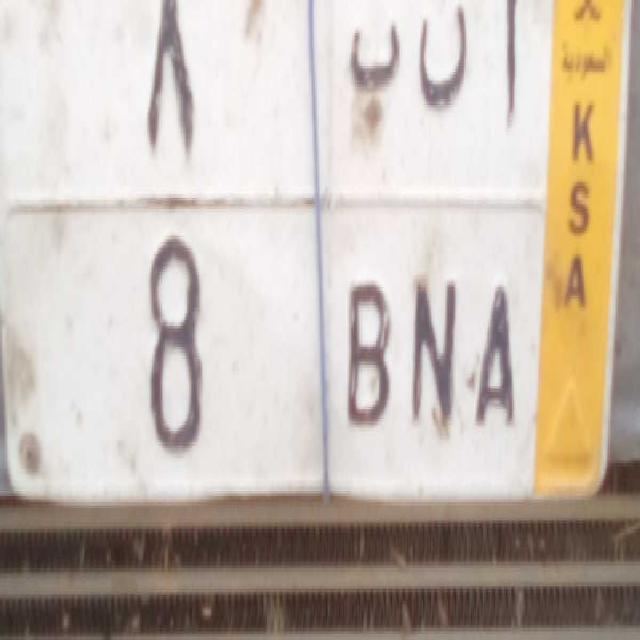license_plate: (0, 197, 541, 510)
